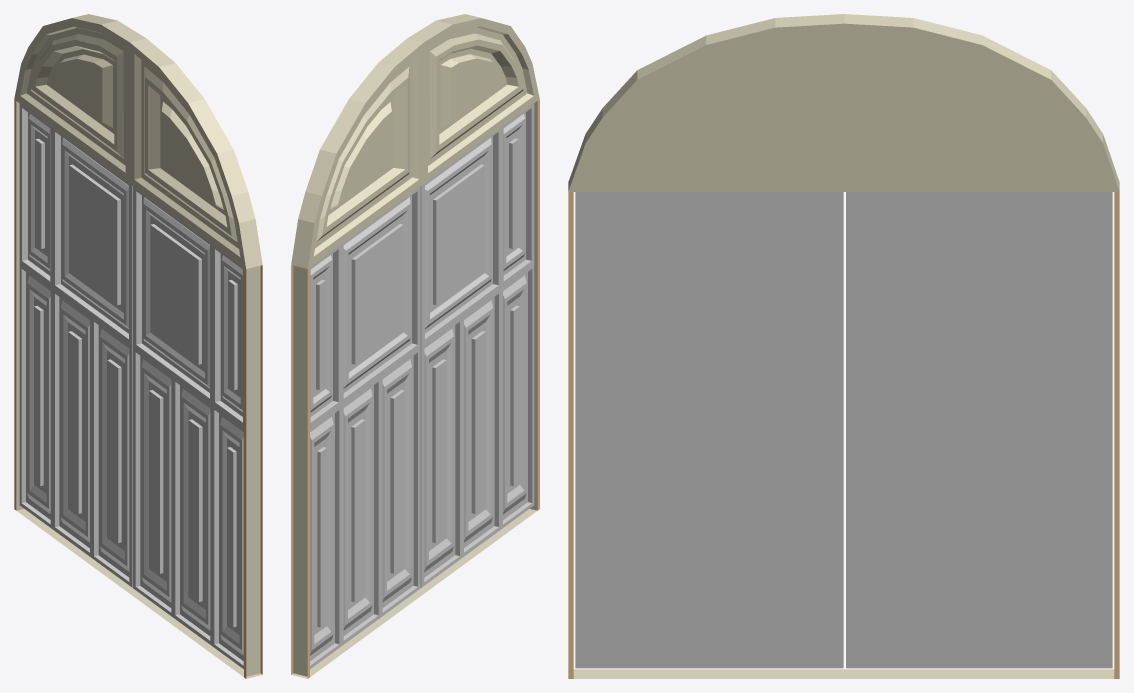
Rendered from 16_06_2020_puertasclaustro2.fbx.
The picture shows the model from 3 angles, left to right: view 1: azimuth 30°, elevation 25°; view 2: azimuth 150°, elevation 25°; view 3: azimuth 270°, elevation 25°; orthographic projection. The views are drawn at different scales.
Parts seen in each view (by area): view 1: Claustro_puertaCaosIzquierda.001, Claustro_puertaCaosIzquierda.003, Claustro_marcodelcaos; view 2: Claustro_puertaCaosIzquierda.003, Claustro_puertaCaosIzquierda.001, Claustro_marcodelcaos; view 3: Claustro_puertaCaosIzquierda.003, Claustro_puertaCaosIzquierda.001, Claustro_marcodelcaos.
Part boxes in pixels (bbox=[...]): Claustro_puertaCaosIzquierda.001: bbox=[19, 104, 132, 587]; Claustro_puertaCaosIzquierda.003: bbox=[132, 186, 243, 668]; Claustro_marcodelcaos: bbox=[14, 14, 262, 678]; Claustro_puertaCaosIzquierda.003: bbox=[420, 103, 534, 587]; Claustro_puertaCaosIzquierda.001: bbox=[310, 186, 420, 668]; Claustro_marcodelcaos: bbox=[291, 14, 539, 678]; Claustro_puertaCaosIzquierda.003: bbox=[575, 192, 843, 668]; Claustro_puertaCaosIzquierda.001: bbox=[846, 192, 1112, 668]; Claustro_marcodelcaos: bbox=[568, 14, 1119, 678].
Bounding box in the file's own units: 24.7 × 782 × 596.
